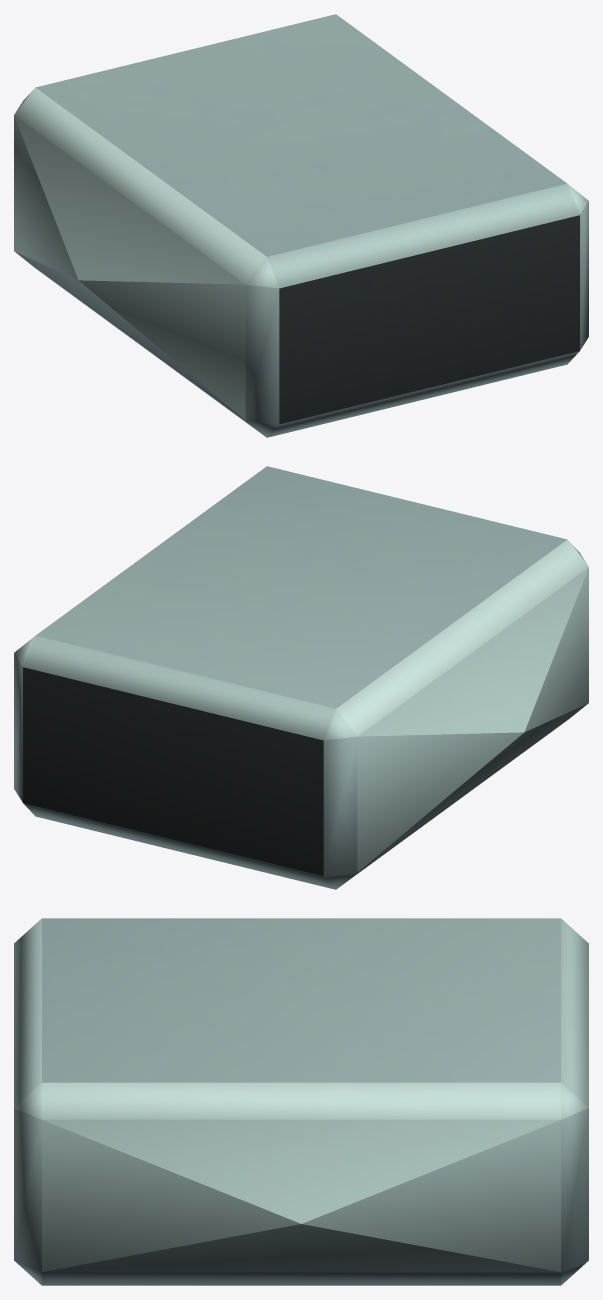
Rendered from air_duct_straight.fbx.
The picture shows the model from 3 angles, top to bottom: view 1: azimuth 30°, elevation 25°; view 2: azimuth 150°, elevation 25°; view 3: azimuth 270°, elevation 25°; orthographic projection. The views are drawn at different scales.
Parts seen in each view (by area): view 1: air_duct_straight; view 2: air_duct_straight; view 3: air_duct_straight.
Boxes of the visible parts, bbox=[...] form: air_duct_straight: bbox=[14, 14, 588, 437]; air_duct_straight: bbox=[14, 466, 588, 889]; air_duct_straight: bbox=[14, 918, 588, 1285].
Bounding box in the file's own units: 106 × 40.92 × 105.
